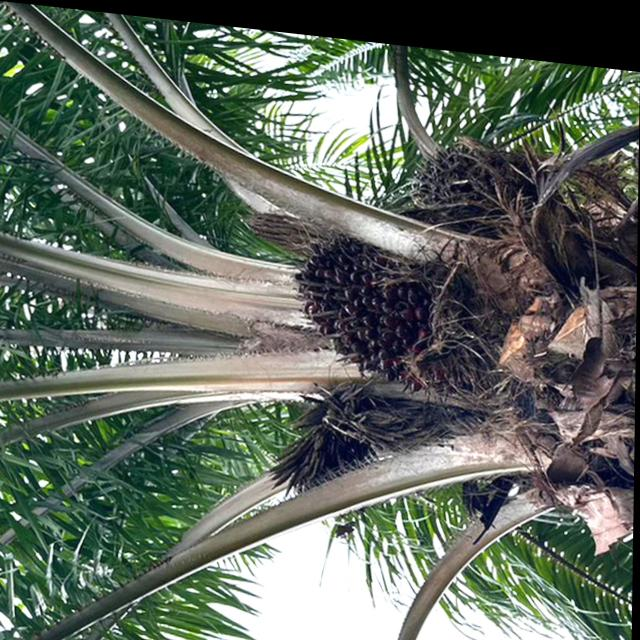almost: (291, 219, 462, 384)
